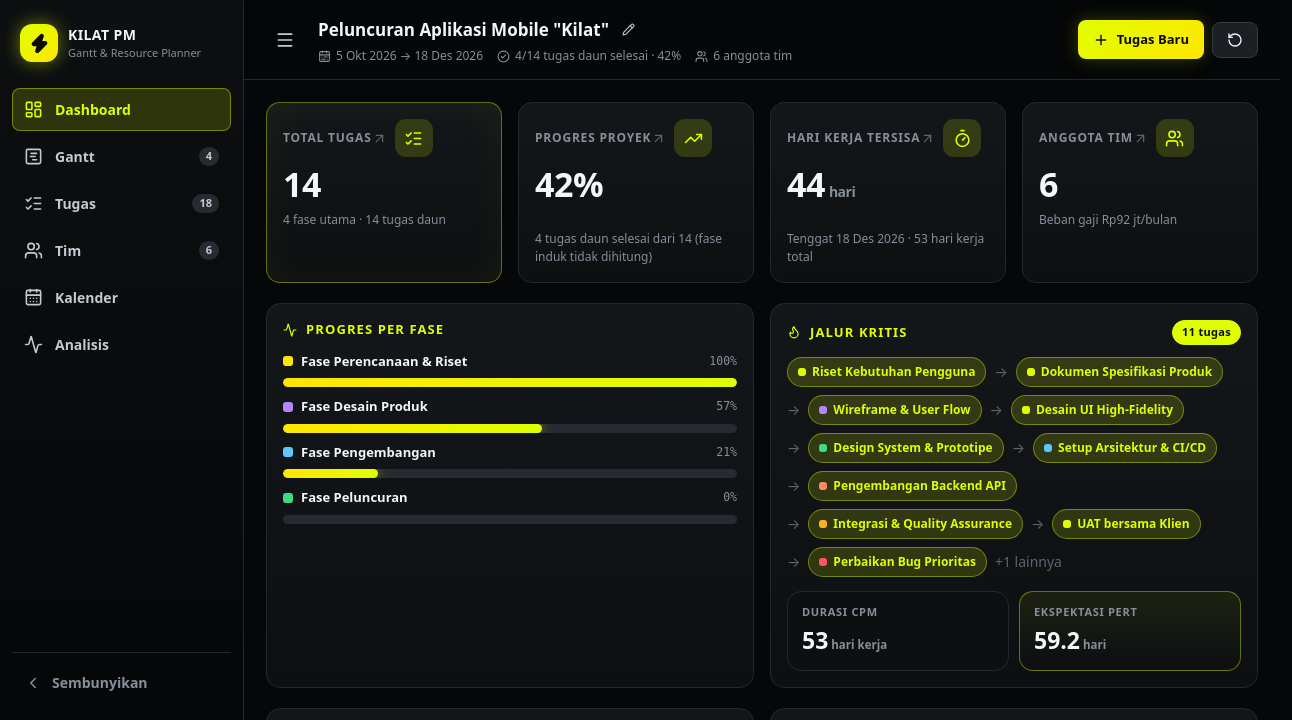
Scenario: AnalysisPage — diagram PERT › hanya memakai tugas daun sebagai node; fase induk jadi label pengelompok
The width and height of the screenshot is (1292, 720).
Step 1. Click the button "Analisis" → [122, 344], box [12,323,231,366]
(page scrolled)
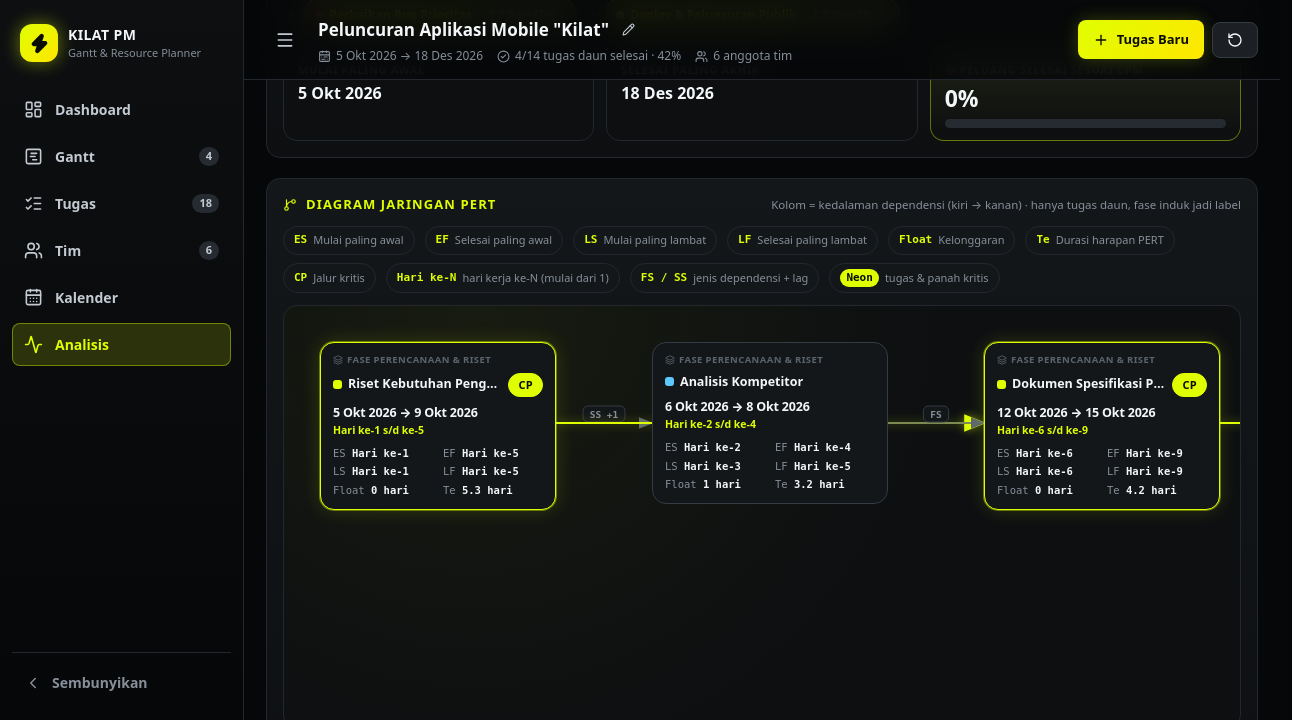
Result: the 1st element showing "Fase Perencanaan & Riset" is shown at [333,353,491,366]
Result: the 1st text "Fase Perencanaan & Riset" is shown at [347,353,491,368]
